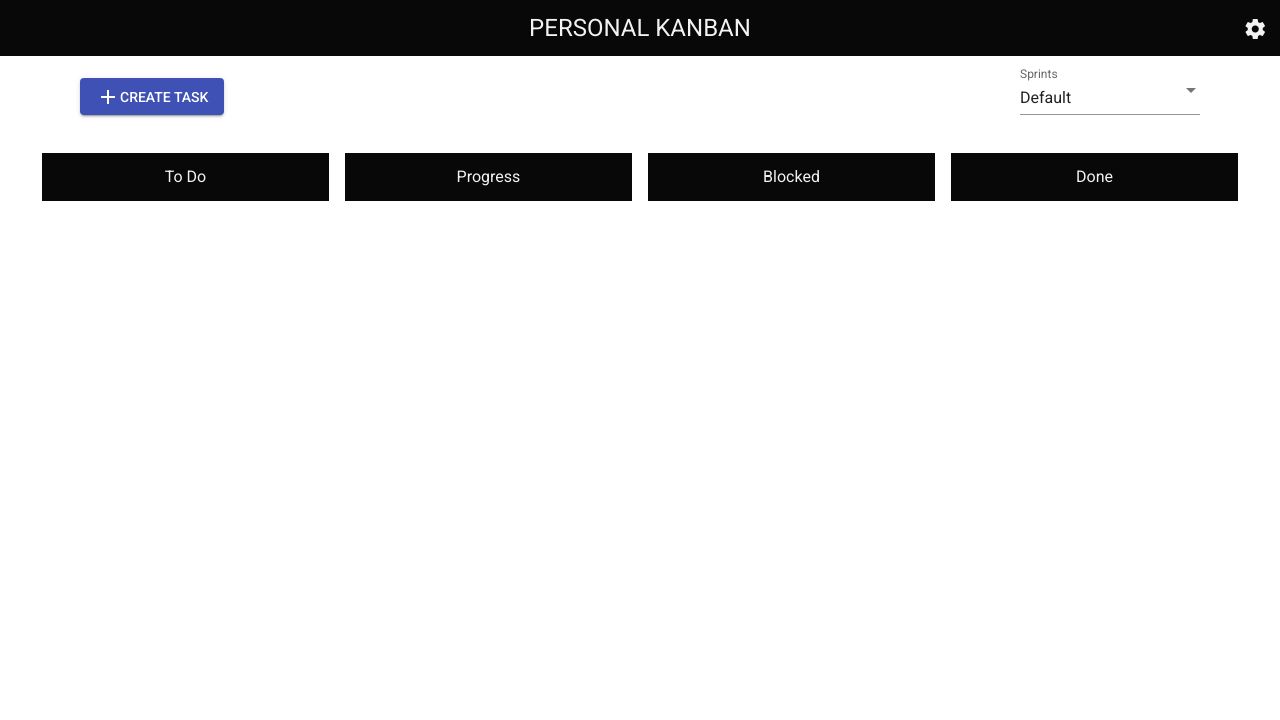
Test: kanban app › should create a sprint
Click the picture in the row of "PERSONAL KANBAN" at (1255, 29), box [1243,17,1267,41]
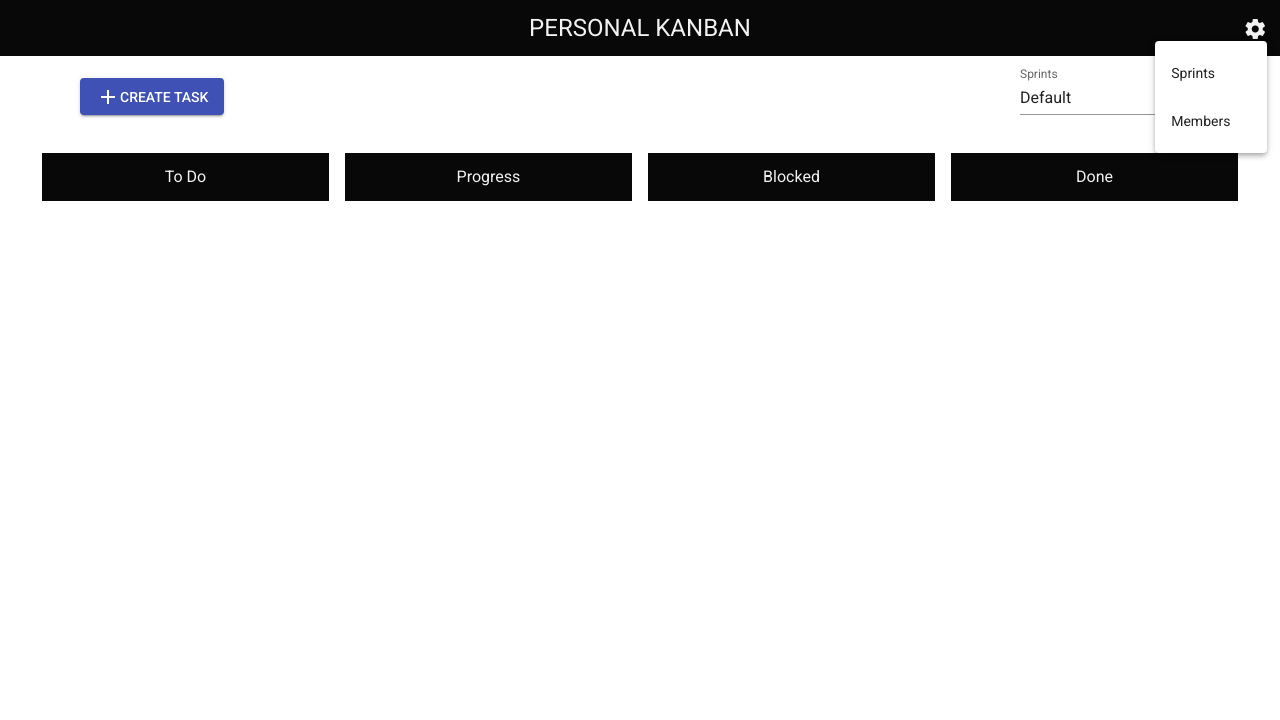
Click the menu item "Sprints" at (1211, 73), box [1155,49,1267,97]
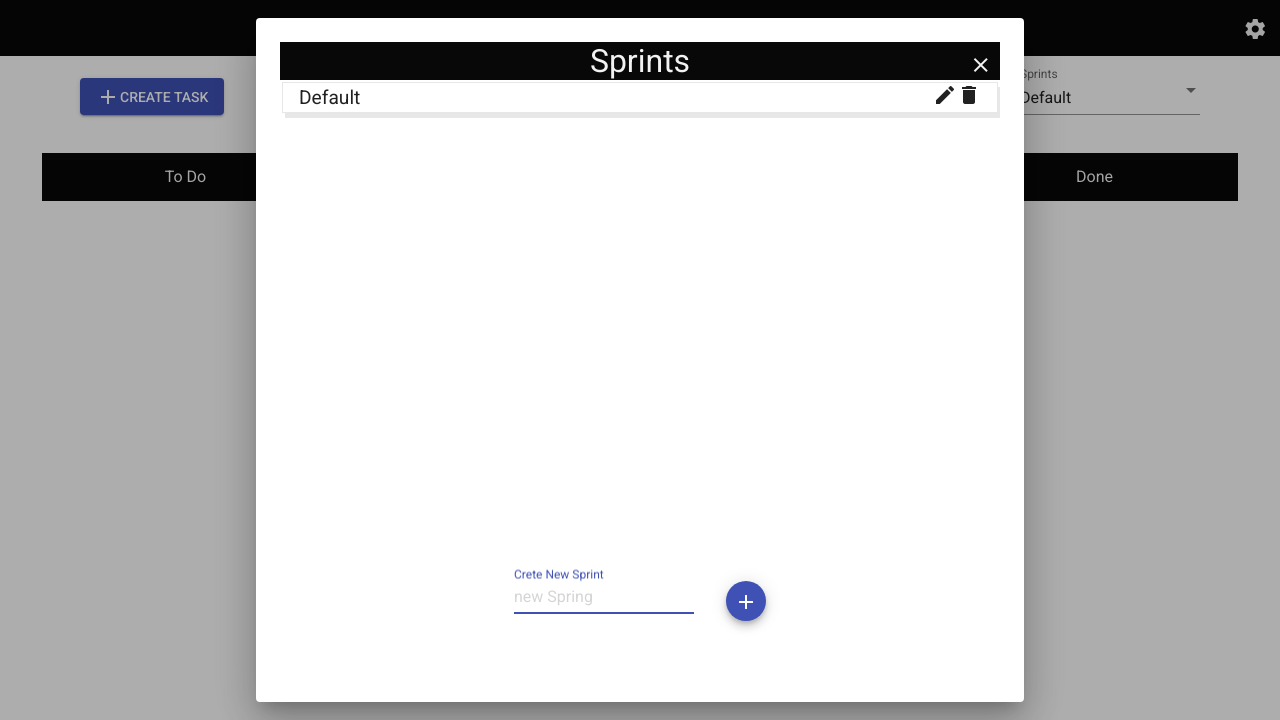
Type "Sprint test" into the field labelled "Crete New Sprint" at (604, 597), box [514,588,694,606]
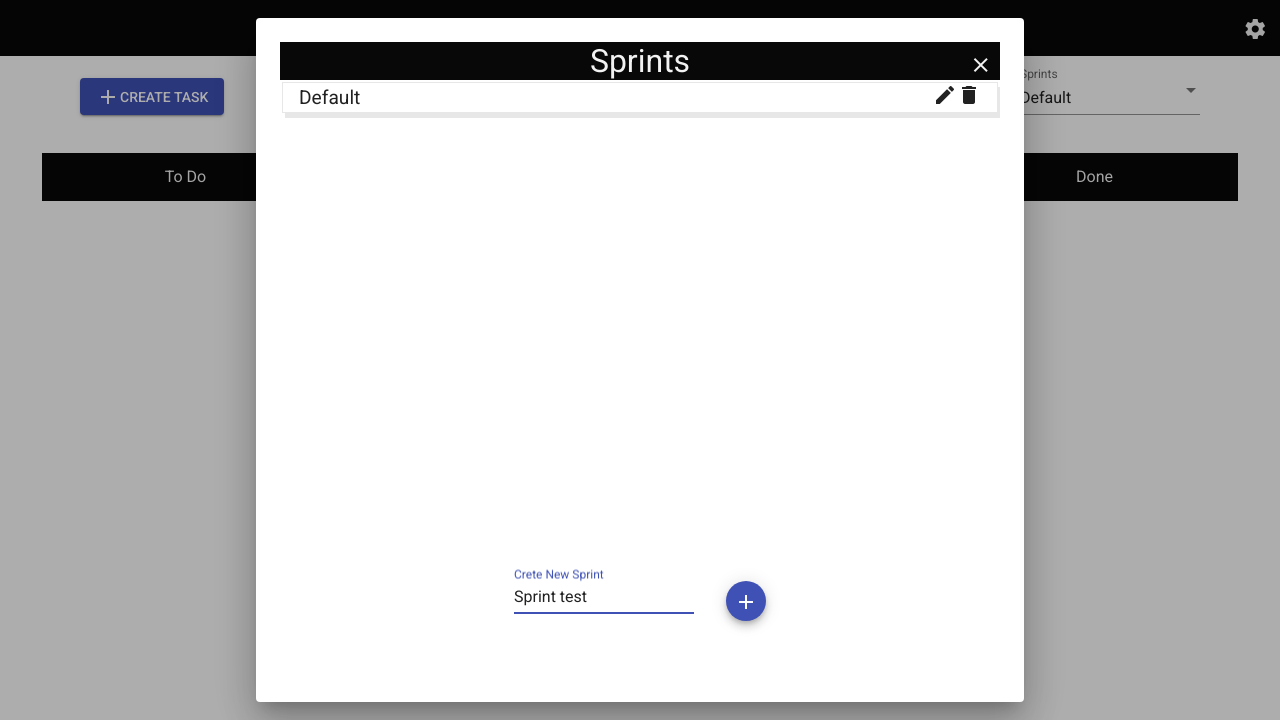
Click the button at (746, 601), box [726,581,766,621]
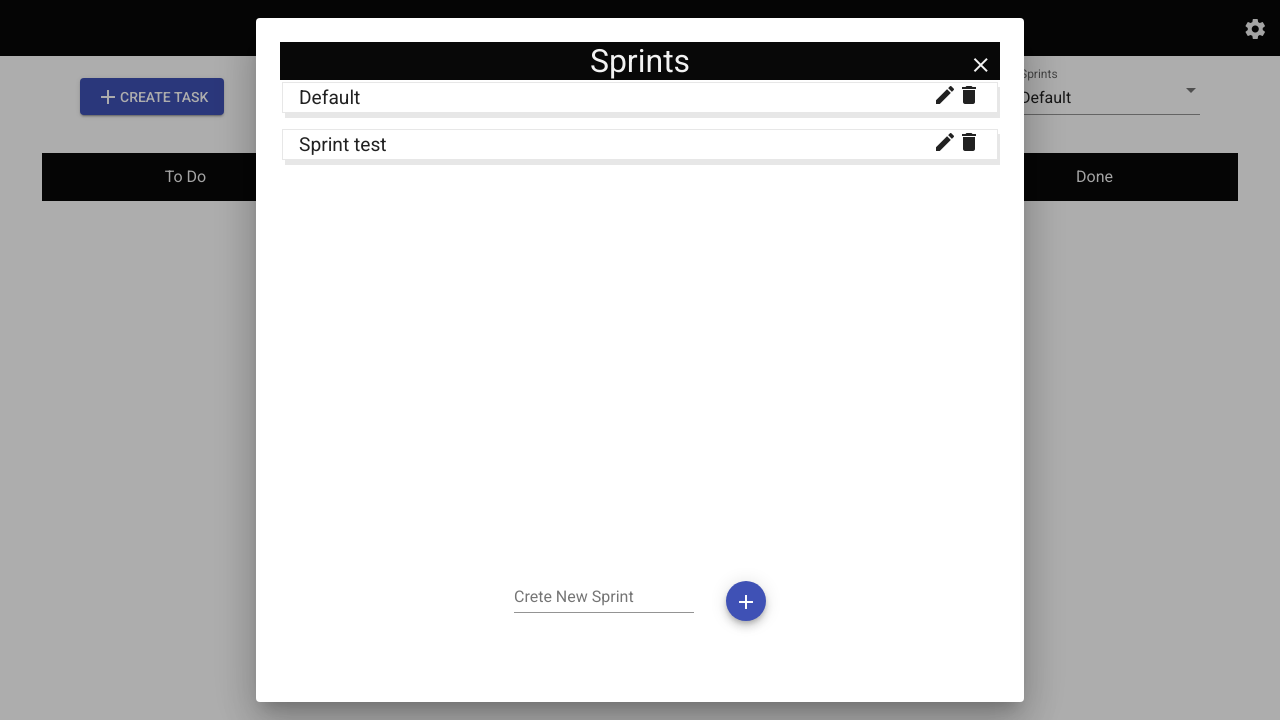
Check: the text "Sprint test" is shown, box [299,133,387,156]
